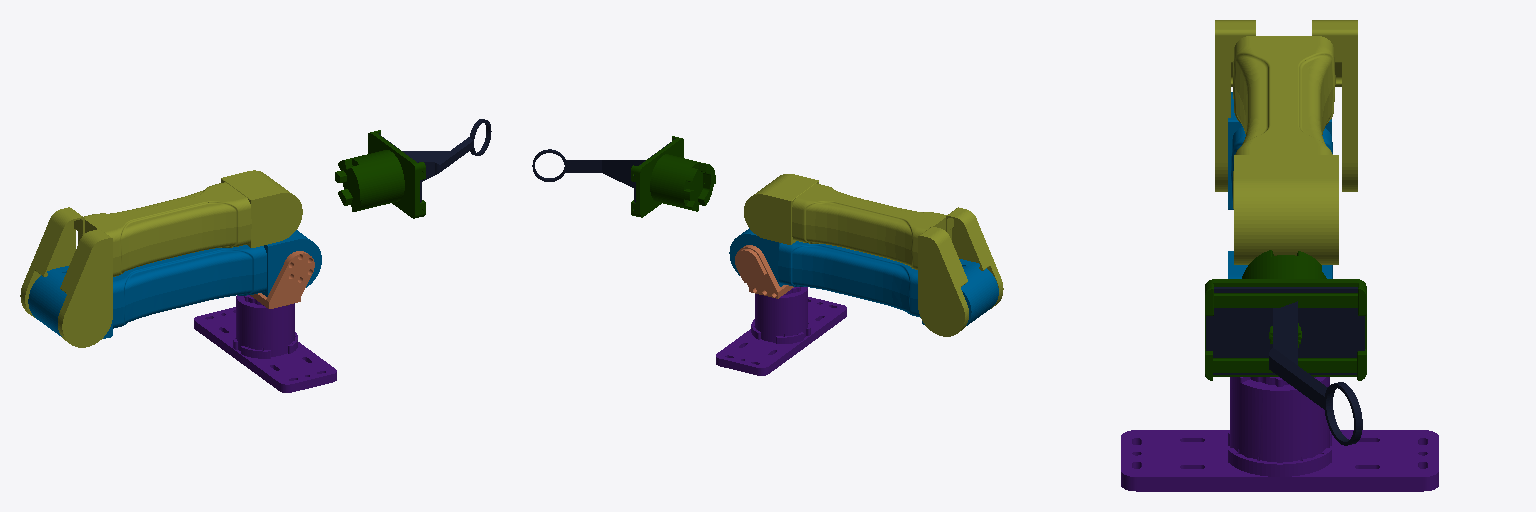
robot.urdf — output:
<?xml version="1.0" ?>
<robot name="output">
  <link name="base">
    <inertial>
      <origin xyz="3.83001e-05 -2.40073e-05 0.0247678" rpy="0 0 0"/>
      <mass value="0.873654"/>
      <inertia ixx="0.00169404" ixy="2.44296e-07" ixz="-2.0408e-07" iyy="0.000678307" iyz="9.47541e-07" izz="0.00157059"/>
    </inertial>
    <visual>
      <origin xyz="-0.0374966 -0.0464005 0.187501" rpy="1.15616e-19 1.5708 0"/>
      <geometry>
        <mesh filename="assets/base.stl"/>
      </geometry>
      <material name="base_material">
        <color rgba="0.317647 0.121569 0.498039 1"/>
      </material>
    </visual>
    <collision>
      <origin xyz="-0.0374966 -0.0464005 0.187501" rpy="1.15616e-19 1.5708 0"/>
      <geometry>
        <mesh filename="assets/base.stl"/>
      </geometry>
    </collision>
  </link>
  <link name="link1">
    <inertial>
      <origin xyz="-0.00261782 0.00744082 0.0237251" rpy="0 0 0"/>
      <mass value="0.104154"/>
      <inertia ixx="4.91898e-05" ixy="3.10838e-06" ixz="5.78638e-06" iyy="0.000129831" iyz="-1.38611e-05" izz="0.000118108"/>
    </inertial>
    <visual>
      <origin xyz="-0.0464 0.0374968 0.119501" rpy="1.5708 1.5708 0"/>
      <geometry>
        <mesh filename="assets/link1.stl"/>
      </geometry>
      <material name="link1_material">
        <color rgba="0.72549 0.45098 0.317647 1"/>
      </material>
    </visual>
    <collision>
      <origin xyz="-0.0464 0.0374968 0.119501" rpy="1.5708 1.5708 0"/>
      <geometry>
        <mesh filename="assets/link1.stl"/>
      </geometry>
    </collision>
  </link>
  <link name="link2">
    <inertial>
      <origin xyz="0.129165 0.000134495 -0.0321253" rpy="0 0 0"/>
      <mass value="1.46908"/>
      <inertia ixx="0.00080009" ixy="-4.32984e-07" ixz="3.12562e-06" iyy="0.0146686" iyz="-1.11425e-08" izz="0.014599"/>
    </inertial>
    <visual>
      <origin xyz="-0.0174977 -0.0740001 -0.07925" rpy="1.5708 -3.58252e-15 1.5708"/>
      <geometry>
        <mesh filename="assets/link2.stl"/>
      </geometry>
      <material name="link2_material">
        <color rgba="0 0.4 0.6 1"/>
      </material>
    </visual>
    <collision>
      <origin xyz="-0.0174977 -0.0740001 -0.07925" rpy="1.5708 -3.58252e-15 1.5708"/>
      <geometry>
        <mesh filename="assets/link2.stl"/>
      </geometry>
    </collision>
  </link>
  <link name="link3">
    <inertial>
      <origin xyz="0.0556042 -0.135083 -0.0340514" rpy="0 0 0"/>
      <mass value="0.982553"/>
      <inertia ixx="0.00758945" ixy="0.00064069" ixz="-4.36075e-06" iyy="0.000937606" iyz="-1.09983e-05" izz="0.00763097"/>
    </inertial>
    <visual>
      <origin xyz="0.0740003 -0.281499 -0.0813" rpy="1.5708 -4.54273e-15 -3.14159"/>
      <geometry>
        <mesh filename="assets/link3.stl"/>
      </geometry>
      <material name="link3_material">
        <color rgba="0.552941 0.580392 0.203922 1"/>
      </material>
    </visual>
    <collision>
      <origin xyz="0.0740003 -0.281499 -0.0813" rpy="1.5708 -4.54273e-15 -3.14159"/>
      <geometry>
        <mesh filename="assets/link3.stl"/>
      </geometry>
    </collision>
  </link>
  <link name="link4">
    <inertial>
      <origin xyz="-0.0543529 0.057068 -0.0332231" rpy="0 0 0"/>
      <mass value="0.46678"/>
      <inertia ixx="0.000490786" ixy="0.000251119" ixz="2.1478e-05" iyy="0.000624073" iyz="-2.15661e-05" izz="0.000790045"/>
    </inertial>
    <visual>
      <origin xyz="-0.0138003 0.0364989 -0.0787882" rpy="1.5708 -1.57772e-30 -1.26578e-30"/>
      <geometry>
        <mesh filename="assets/link4.stl"/>
      </geometry>
      <material name="link4_material">
        <color rgba="0.545098 0.52549 0.419608 1"/>
      </material>
    </visual>
    <collision>
      <origin xyz="-0.0138003 0.0364989 -0.0787882" rpy="1.5708 -1.57772e-30 -1.26578e-30"/>
      <geometry>
        <mesh filename="assets/link4.stl"/>
      </geometry>
    </collision>
  </link>
  <link name="link5">
    <inertial>
      <origin xyz="-3.55003e-05 -0.00717397 0.0375847" rpy="0 0 0"/>
      <mass value="0.403307"/>
      <inertia ixx="0.000219791" ixy="-3.49657e-07" ixz="2.10549e-07" iyy="0.000181053" iyz="1.29173e-05" izz="0.000184284"/>
    </inertial>
    <visual>
      <origin xyz="-0.0463995 0.0311519 0.0265" rpy="-1.5708 -1.5708 0"/>
      <geometry>
        <mesh filename="assets/link5.stl"/>
      </geometry>
      <material name="link5_material">
        <color rgba="0.827451 0.623529 0.784314 1"/>
      </material>
    </visual>
    <collision>
      <origin xyz="-0.0463995 0.0311519 0.0265" rpy="-1.5708 -1.5708 0"/>
      <geometry>
        <mesh filename="assets/link5.stl"/>
      </geometry>
    </collision>
  </link>
  <link name="gripper">
    <inertial>
      <origin xyz="-3.57066e-05 0.000249371 -0.0293133" rpy="0 0 0"/>
      <mass value="0.553219"/>
      <inertia ixx="0.000409668" ixy="5.44942e-07" ixz="7.91266e-07" iyy="0.000324942" iyz="-4.83958e-06" izz="0.000369249"/>
    </inertial>
    <visual>
      <origin xyz="-0.014 -0.0463995 0.0731" rpy="-2.40808e-14 1.46014e-15 -3.15544e-30"/>
      <geometry>
        <mesh filename="assets/gripper.stl"/>
      </geometry>
      <material name="gripper_material">
        <color rgba="0.109804 0.286275 0.0117647 1"/>
      </material>
    </visual>
    <visual>
      <origin xyz="0 0 -0.05" rpy=" 4.71238898038 1.46014e-15 -3.15544e-30"/>
      <geometry>
        <mesh filename="assets/tip.stl"/>
      </geometry>
      <material name="tip_material">
        <color rgba="0.113 0.136 0.216 1"/>
      </material>
    </visual>
    <collision>
      <origin xyz="-0.014 -0.0463995 0.0731" rpy="-2.40808e-14 1.46014e-15 -3.15544e-30"/>
      <geometry>
        <mesh filename="assets/gripper.stl"/>
      </geometry>
    </collision>
    <collision>
      <origin xyz="0 0 -0.05" rpy="4.71238898038 1.46014e-15 -3.15544e-30"/>
      <geometry>
        <mesh filename="assets/tip.stl"/>
      </geometry>
    </collision>

  </link>

  <joint name="joint6" type="revolute">
    <origin xyz="2.39858e-07 -0.0419481 0.0404996" rpy="-1.5708 -1.5708 0"/>
    <parent link="link5"/>
    <child link="gripper"/>
    <axis xyz="0 0 1"/>
    <limit effort="10" velocity="10" lower="-2.0944" upper="2.0944"/>
  </joint>
  <joint name="joint5" type="revolute">
    <origin xyz="-0.0403003 0.0703851 -0.0323887" rpy="-3.14159 -1.5708 0"/>
    <parent link="link4"/>
    <child link="link5"/>
    <axis xyz="0 0 1"/>
    <limit effort="10" velocity="10" lower="-1.5708" upper="1.5708"/>
  </joint>
  <joint name="joint4" type="revolute">
    <origin xyz="0.0600003 -0.244999 -0.00205" rpy="-1.4667e-14 -1.70957e-14 -3.14159"/>
    <parent link="link3"/>
    <child link="link4"/>
    <axis xyz="0 0 1"/>
    <limit effort="10" velocity="10" lower="-1.5708" upper="1.5708"/>
  </joint>
  <joint name="joint3" type="revolute">
    <origin xyz="0.264 4.08431e-07 -0.06375" rpy="-3.14159 6.51959e-15 1.5708"/>
    <parent link="link2"/>
    <child link="link3"/>
    <axis xyz="0 0 1"/>
    <limit effort="10" velocity="10" lower="0" upper="3.66519"/>
  </joint>
  <joint name="joint2" type="revolute">
    <origin xyz="-0.0329 0.02 0.0455" rpy="1.5708 -5.36072e-16 -1.5708"/>
    <parent link="link1"/>
    <child link="link2"/>
    <axis xyz="0 0 1"/>
    <limit effort="10" velocity="10" lower="0" upper="3.14159"/>
  </joint>
  <joint name="joint1" type="revolute">
    <origin xyz="-1.249e-16 -1.38692e-16 0.067" rpy="4.43651e-16 -1.15412e-16 -1.5708"/>
    <parent link="base"/>
    <child link="link1"/>
    <axis xyz="0 0 1"/>
    <limit effort="10" velocity="10" lower="-2.61799" upper="3.05433"/>
  </joint>
</robot>

--- What the picture shows (computed from the rendered views, not written in the file) ---
Views: 3 orthographic renders of the robot side by side, from view 1: azimuth 30°, elevation 25°; view 2: azimuth 150°, elevation 25°; view 3: azimuth 270°, elevation 25°.
Model output with 7 links and 6 joints (6 revolute), rooted at base, posed every joint at zero.
Visible links, largest first — view 1: link3, link2, base, gripper, link1; view 2: link3, link2, base, gripper, link1; view 3: link3, base, gripper, link2.
Boxes of the visible links, x1,y1,x2,y2 form: link3: (20,170,302,347); link2: (28,230,321,338); base: (194,295,336,392); gripper: (335,119,491,218); link1: (250,251,314,308); link3: (744,174,1003,336); link2: (729,228,998,325); base: (716,287,846,375); gripper: (532,136,715,217); link1: (735,245,793,298); link3: (1215,20,1357,264); base: (1121,377,1438,491); gripper: (1205,250,1366,445); link2: (1228,92,1332,278).
Size in the robot's own frame: 0.5832 by 0.2 by 0.2048 metres.
6 mesh visuals loaded from 8 distinct referenced files (6 binary STL); not drawn: 2 (reference not matched to a file when rendering).
